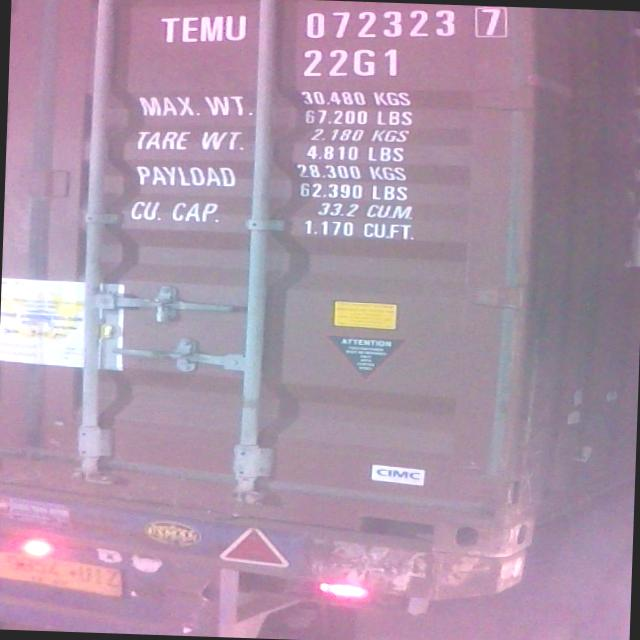seal: (149, 298, 179, 323)
